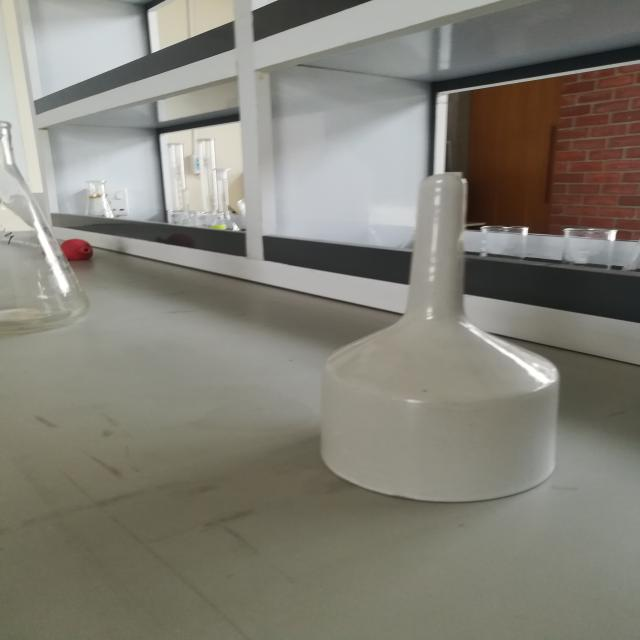Buchner_Funnel: (282, 112, 612, 536)
